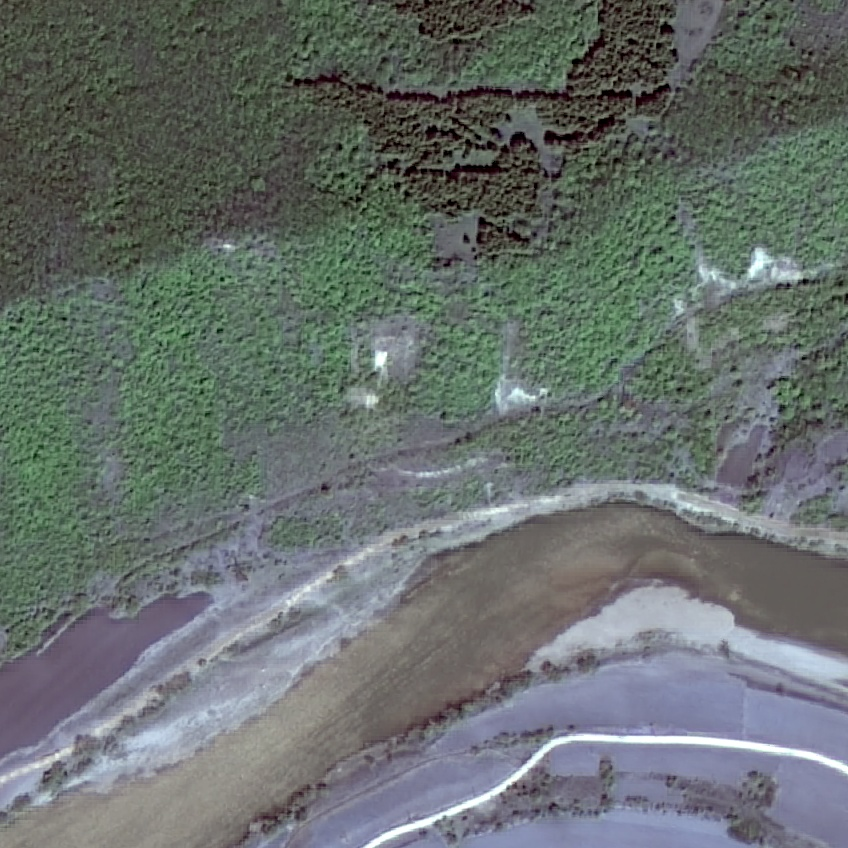slope: (665, 242, 810, 330), (342, 315, 425, 408), (493, 365, 556, 421)
